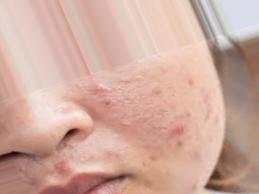Acne: (184, 69, 216, 133), (72, 148, 126, 166), (116, 74, 142, 107), (90, 82, 120, 107), (107, 111, 144, 130), (158, 120, 189, 142), (192, 136, 212, 166), (145, 147, 170, 166), (140, 82, 166, 98), (50, 158, 68, 179), (139, 174, 158, 190), (186, 176, 204, 192)
